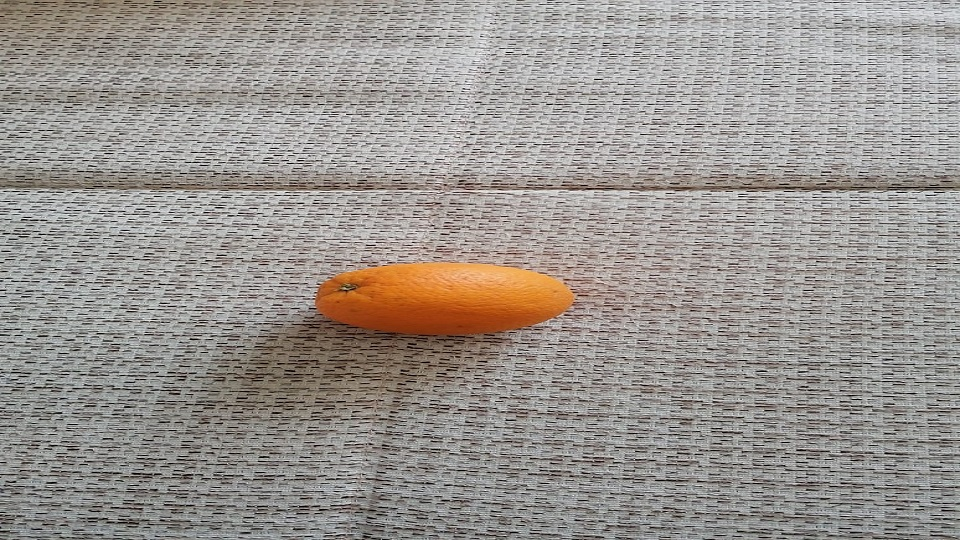portakal: (313, 261, 577, 337)
